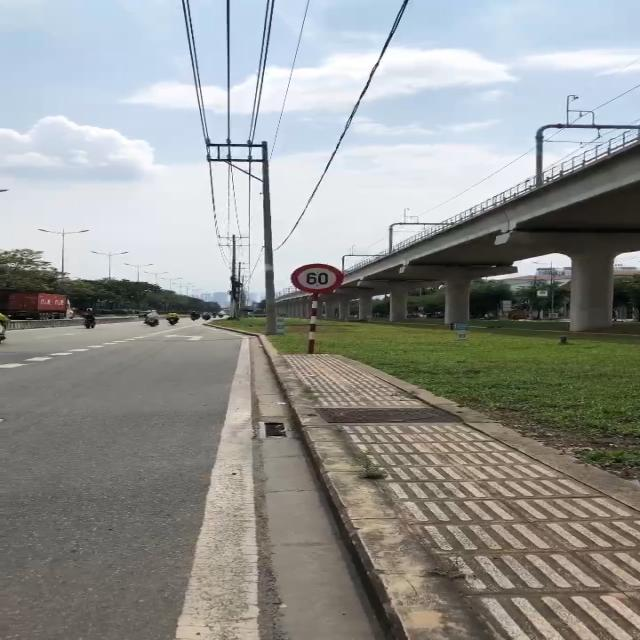Bien bao toc do toi da cho phep: (289, 259, 349, 296)
